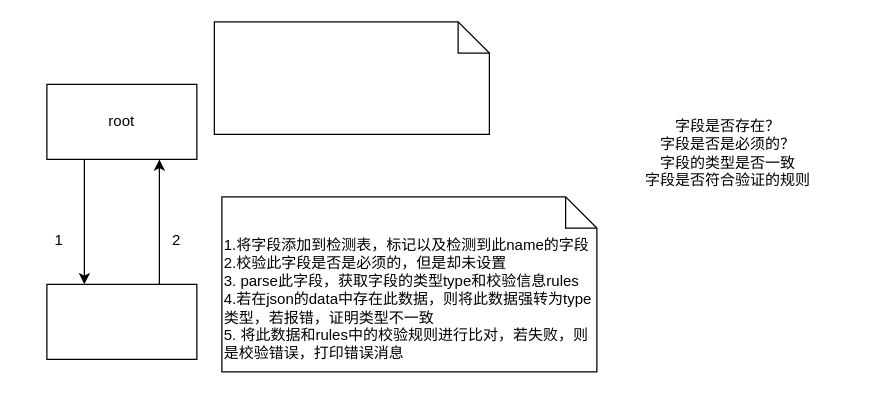
This 880x394 diagram has some shape labels left out. The centre of each missing label's shape, as x and y in pixels:
VisitedField: the point at 121,321
根据visitedField获取检测到的所有字段信息，比对数据中有无未出现的字段，有的话证明是出现多余字段错误: the point at 351,77
